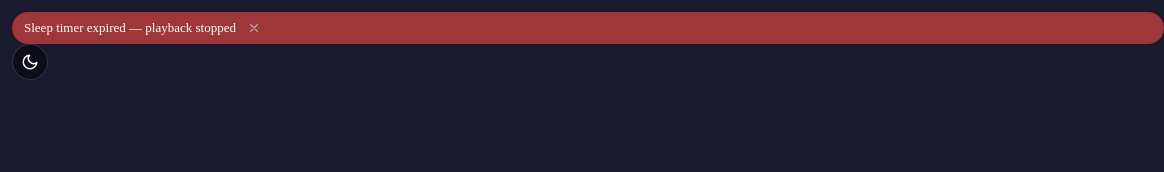
Test: SleepTimer › the expired notice can be dismissed without arming a new timer
Earlier steps of the test are not shown.
Expected: the text "Sleep timer expired" is shown, [24,20,236,35]
Click the button named "Cancel sleep timer" at (254,28), box [242,16,266,40]
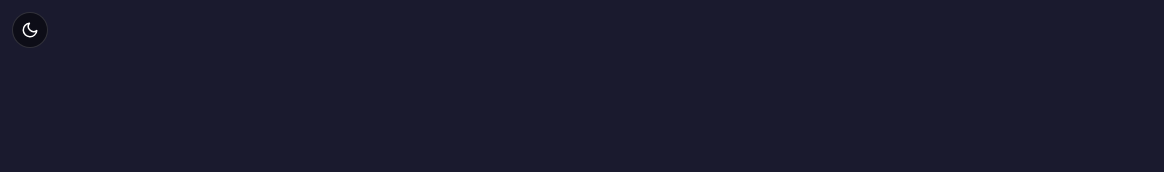
Expected: the text "Sleep timer expired" is gone
